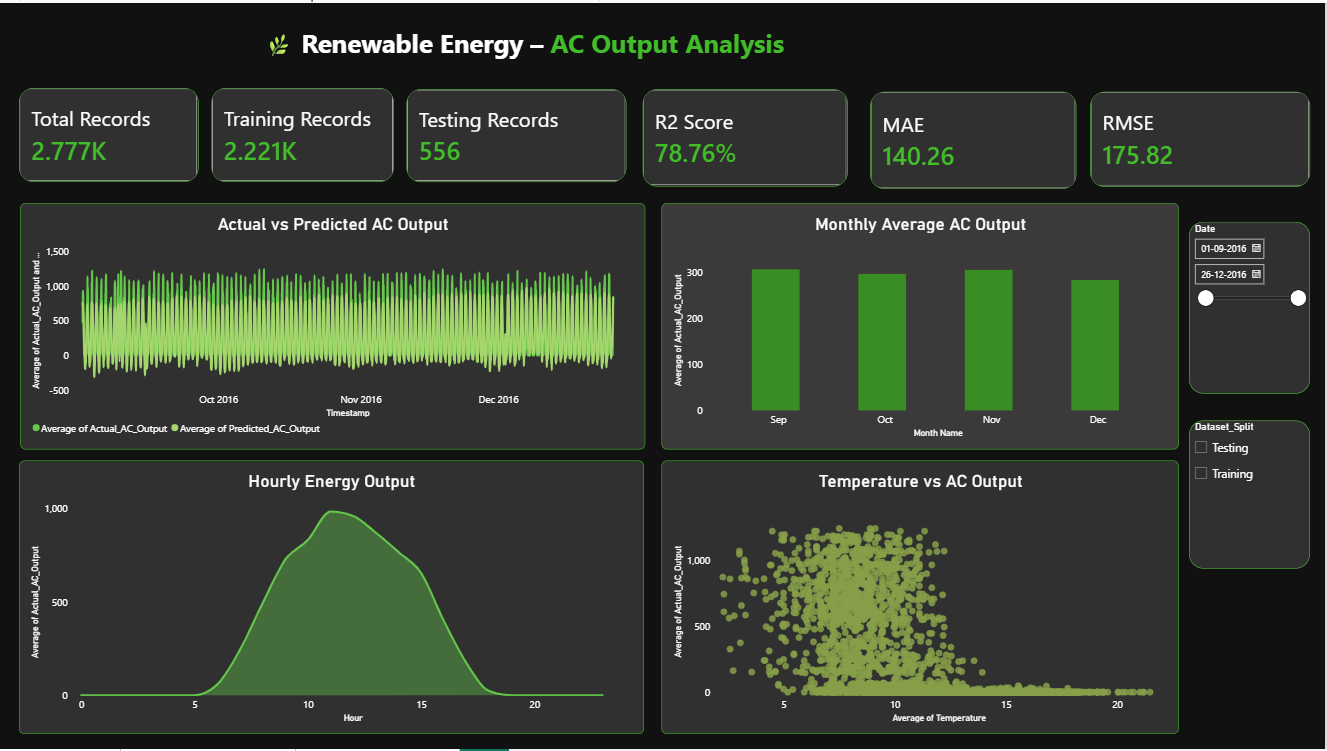

Layout of this report page (visuals, bound fields, positions):
{"tool":"powerbi","page":{"name":"01 - Main Dashboard","canvas":[1920,1080],"ordinal":0},"visuals":[{"type":"cardVisual","title":"Total Records","fields":{"Data":["CountNonNull(Renewable_Energyy.Timestamp)"]},"box":[28.1,123.4,259.7,136.3],"z":0},{"type":"cardVisual","title":"Training Records","fields":{"Data":["CountNonNull(Renewable_Energyy.Timestamp)"]},"box":[307.3,123.4,264,136.3],"z":1000},{"type":"cardVisual","title":"Testing Records","fields":{"Data":["CountNonNull(Renewable_Energyy.Timestamp)"]},"box":[590.8,125.5,318.1,134.2],"z":2000},{"type":"cardVisual","fields":{"Data":["Renewable_Energyy.R2 Score"]},"box":[932.7,125.5,296.5,140.7],"z":3000},{"type":"cardVisual","fields":{"Data":["Renewable_Energyy.RMSE"]},"box":[1579.8,128.5,318.5,137.5],"z":4000},{"type":"cardVisual","fields":{"Data":["Renewable_Energyy.MAE"]},"box":[1261.7,127.7,298.7,140.7],"z":5000},{"type":"lineChart","title":"Actual vs Predicted AC Output","fields":{"Category":["Renewable_Energyy.Timestamp"],"Y":["Avg(Renewable_Energyy.Actual_AC_Output)","Avg(Renewable_Energyy.Predicted_AC_Output)"]},"box":[30.8,289.5,904.6,357.1],"z":6000},{"type":"clusteredColumnChart","title":"Monthly Average AC Output","fields":{"Category":["Renewable_Energyy.Month Name"],"Y":["Avg(Renewable_Energyy.Actual_AC_Output)"]},"box":[959.1,289.5,749.2,356.5],"z":7000},{"type":"areaChart","title":"Hourly Energy Output","fields":{"Category":["Renewable_Energyy.Hour"],"Y":["Avg(Renewable_Energyy.Actual_AC_Output)"]},"box":[28.1,662.2,904.6,396],"z":8000},{"type":"scatterChart","title":"Temperature vs AC Output","fields":{"Category":["Renewable_Energyy.Timestamp"],"X":["Avg(Renewable_Energyy.Temperature)"],"Y":["Avg(Renewable_Energyy.Actual_AC_Output)"]},"box":[959.1,662.3,749.2,396.3],"z":9000},{"type":"slicer","fields":{"Values":["Renewable_Energyy.Dataset_Split"]},"box":[1722.7,603.8,175.3,214.3],"z":10000},{"type":"slicer","fields":{"Values":["Renewable_Energyy.Date"]},"box":[1722.7,316,175.3,248.9],"z":11000},{"type":"textbox","box":[383.6,32.6,1062.3,70.6],"z":12000}]}

Visuals, with their boxes in screenshot pixels (x1, y1, x2, y2), scaled from the page's 1920x1080 canvas onto the 1327x751 screenshot:
"Total Records" cardVisual: (19,86,199,181)
"Training Records" cardVisual: (212,86,395,181)
"Testing Records" cardVisual: (408,87,628,181)
cardVisual - Renewable_Energyy.R2 Score: (645,87,850,185)
cardVisual - Renewable_Energyy.RMSE: (1092,89,1312,185)
cardVisual - Renewable_Energyy.MAE: (872,89,1078,187)
"Actual vs Predicted AC Output" lineChart: (21,201,646,450)
"Monthly Average AC Output" clusteredColumnChart: (663,201,1181,449)
"Hourly Energy Output" areaChart: (19,460,645,736)
"Temperature vs AC Output" scatterChart: (663,461,1181,736)
slicer - Renewable_Energyy.Dataset_Split: (1191,420,1312,569)
slicer - Renewable_Energyy.Date: (1191,220,1312,393)
textbox: (265,23,999,72)
